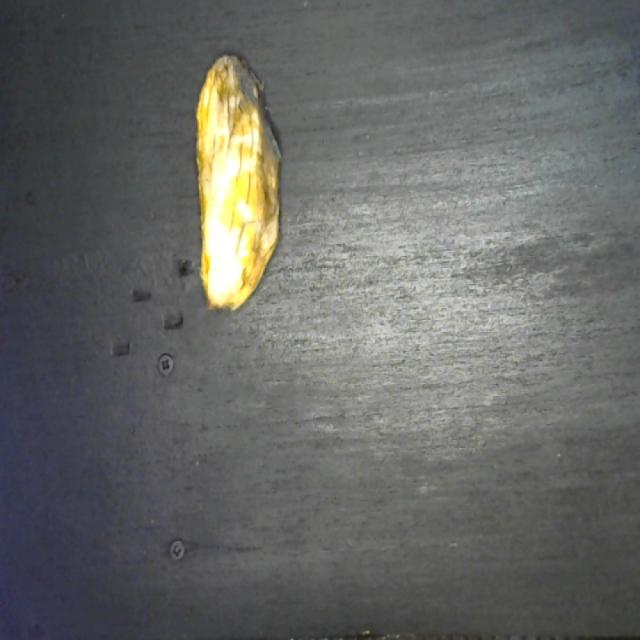biodegradable: (190, 42, 286, 316)
